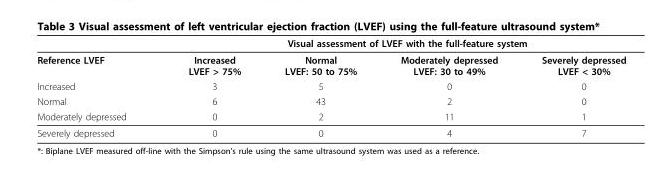table: (36, 37, 625, 138)
table column: (378, 37, 519, 138), (36, 37, 156, 138), (262, 37, 378, 138), (156, 37, 262, 138), (519, 37, 625, 138)
table column header: (36, 37, 625, 78)
table row: (36, 51, 625, 78), (36, 108, 625, 124), (36, 78, 625, 93), (36, 93, 625, 108), (36, 37, 625, 51), (36, 124, 625, 138)
table spanning cell: (156, 37, 625, 51), (36, 37, 156, 78)
